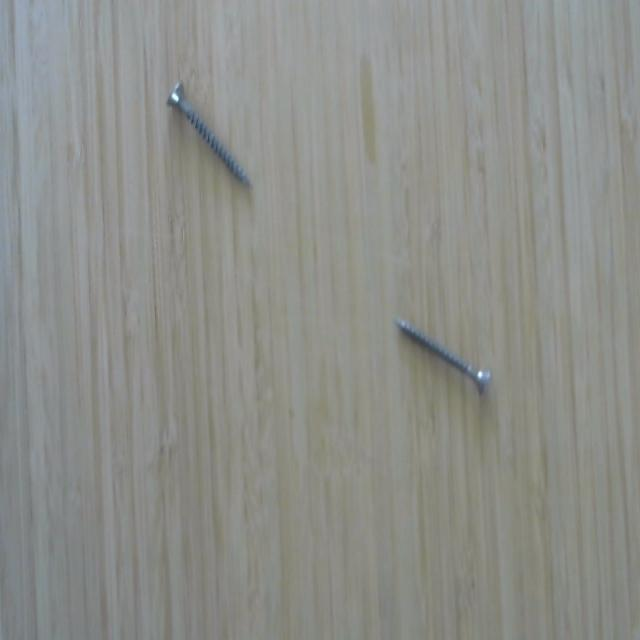Black screw: (162, 73, 252, 192), (388, 311, 500, 399)
